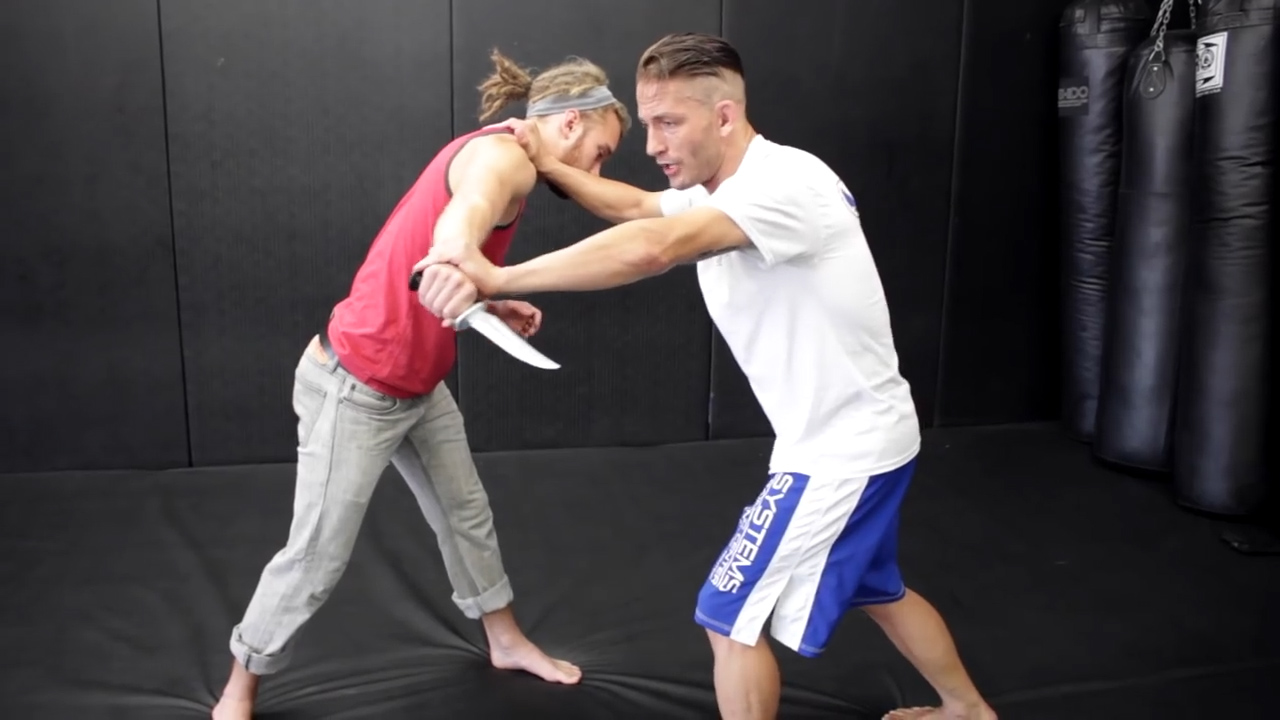knife: (402, 263, 576, 382)
